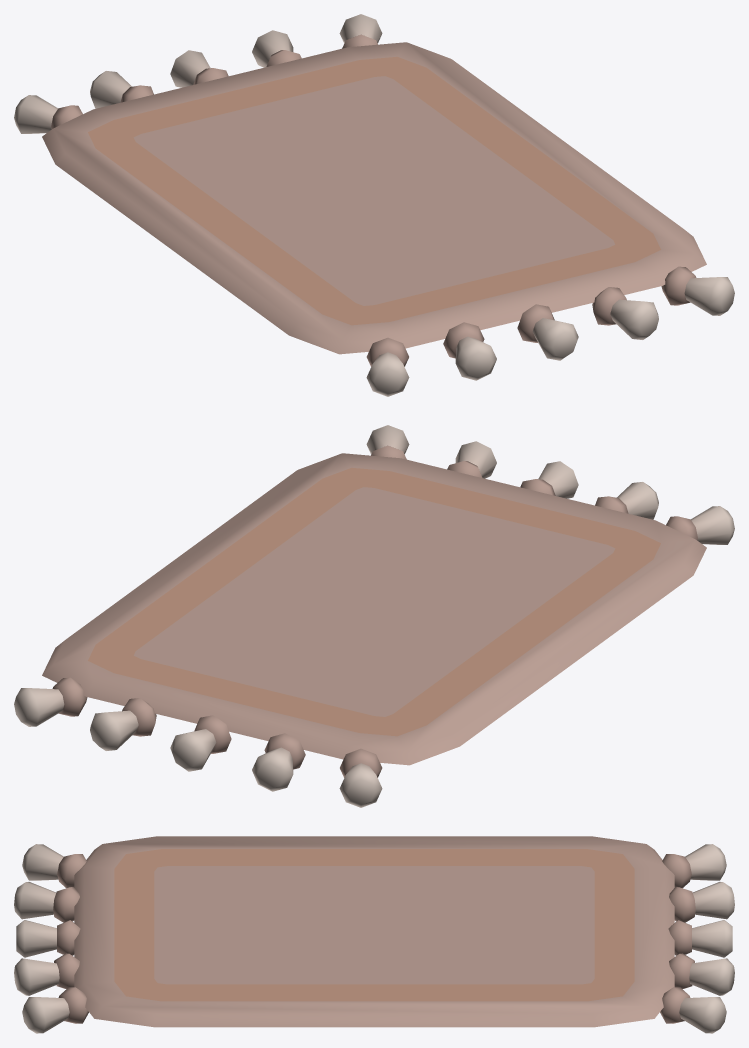
The model's file is carpet-tasseled-rectangle-small.glb.
3 renders of one model, top to bottom at view 1: azimuth 30°, elevation 25°; view 2: azimuth 150°, elevation 25°; view 3: azimuth 270°, elevation 25°, orthographic. The views are drawn at different scales.
Parts seen in each view (by area): view 1: carpet-tasseled-rectangle-small; view 2: carpet-tasseled-rectangle-small; view 3: carpet-tasseled-rectangle-small.
Boxes of the visible parts, x1,y1,x2,y2 form: carpet-tasseled-rectangle-small: (14, 14, 734, 396); carpet-tasseled-rectangle-small: (14, 425, 734, 807); carpet-tasseled-rectangle-small: (14, 836, 734, 1033).
Bounding box in the file's own units: 1.1 × 0.101 × 1.8.
